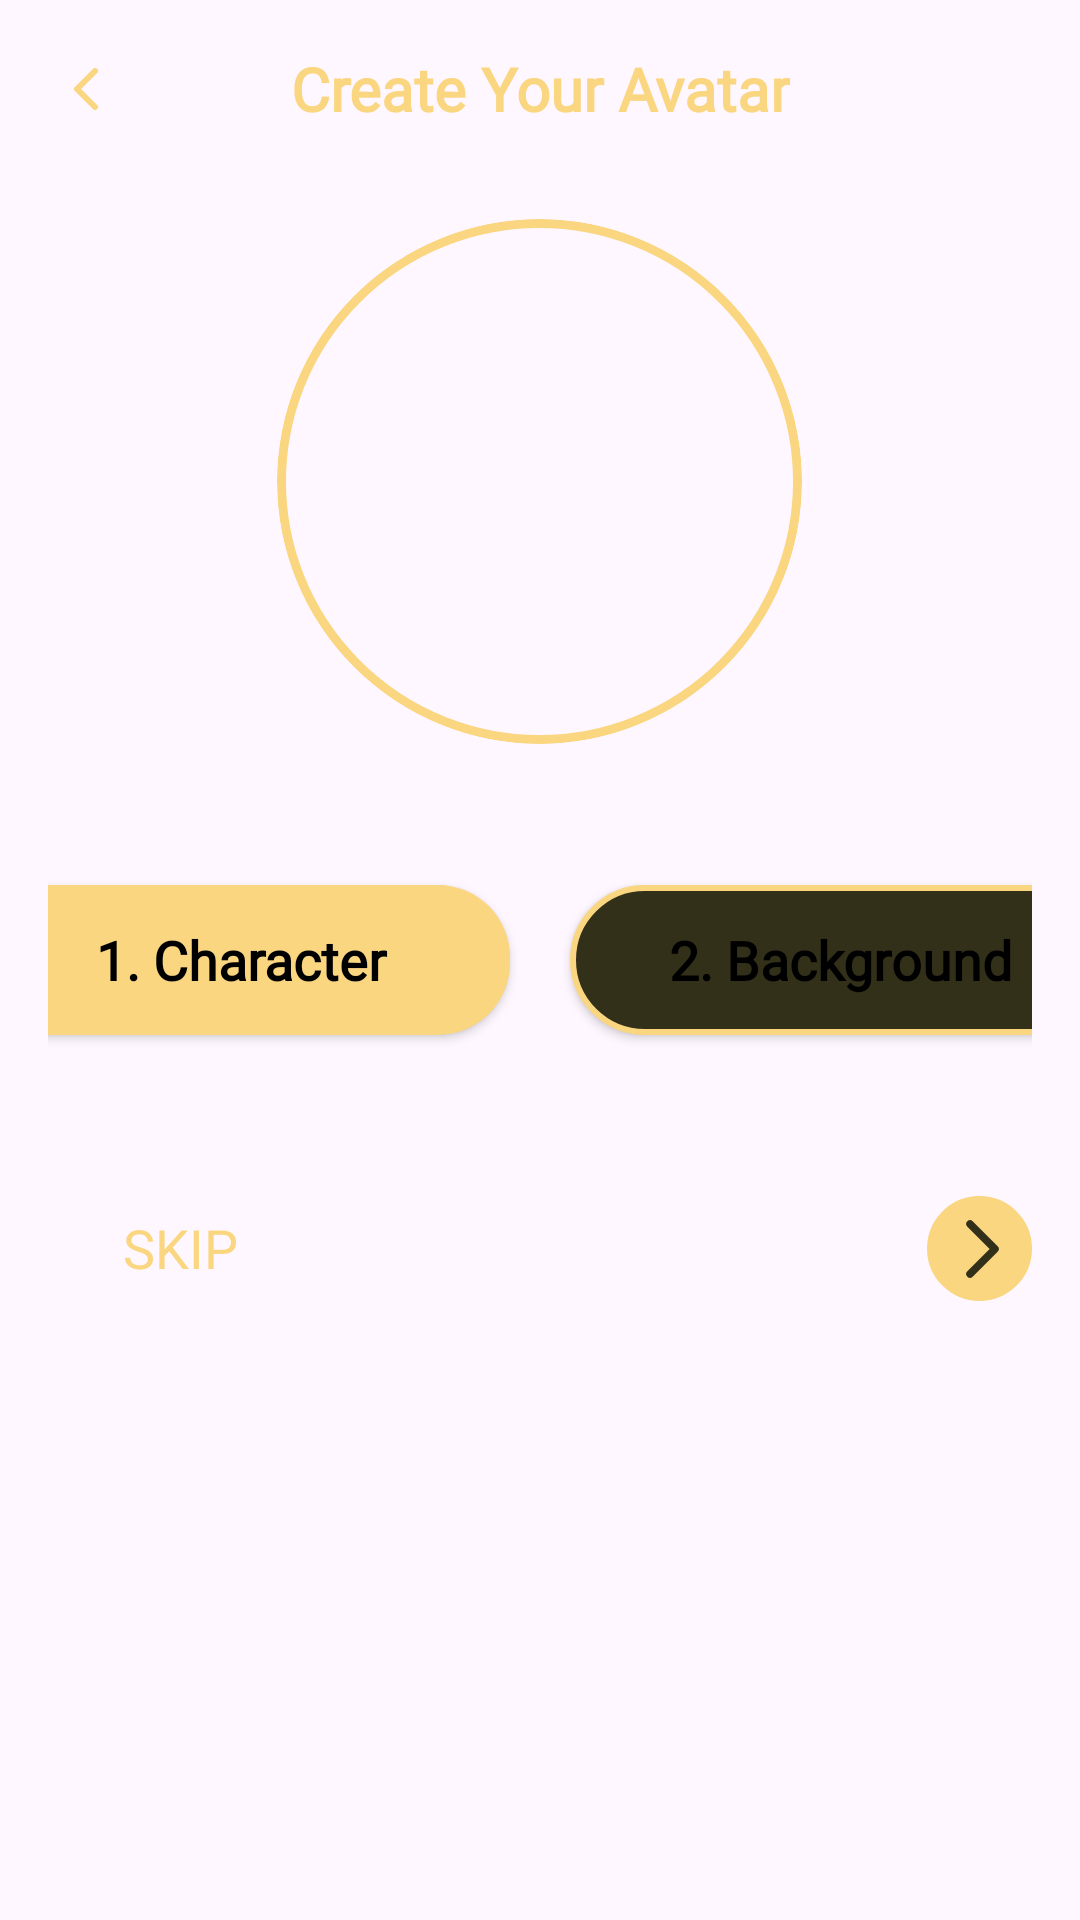

Screen size 1080w x 1920h. Icon name, then its center in pixels as (x,y):
arrow left: (86,89)
Next: (979,1248)
